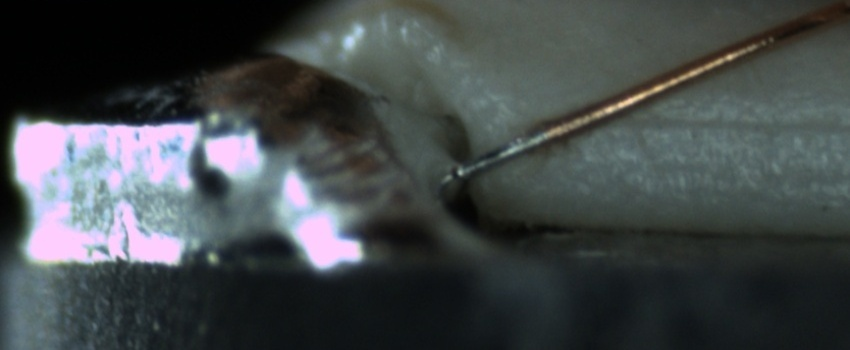DL: (612, 87, 845, 156)
TS: (450, 129, 547, 182)
